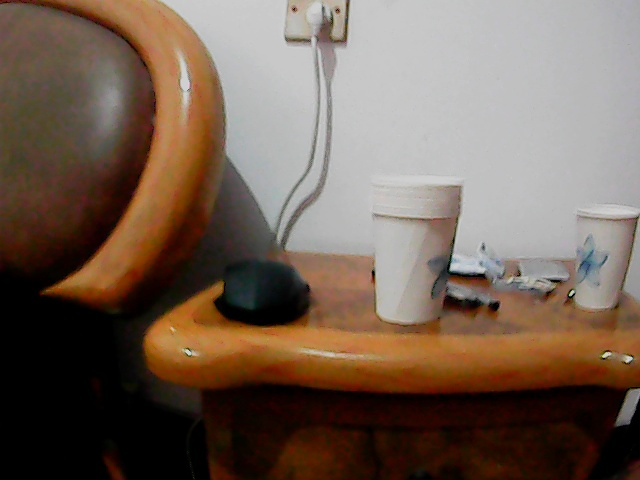cup: (366, 171, 459, 325)
mouse: (212, 256, 318, 326)
